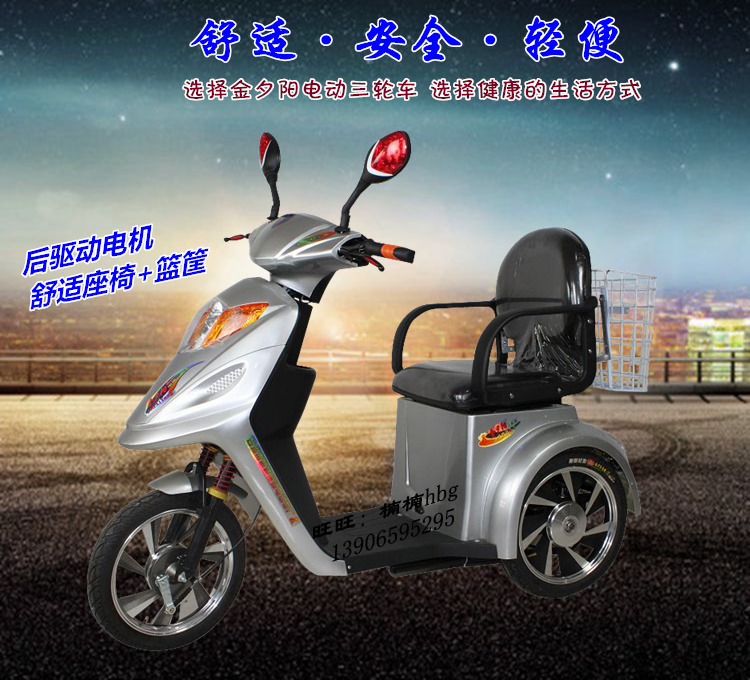电动车: (79, 129, 649, 659)
